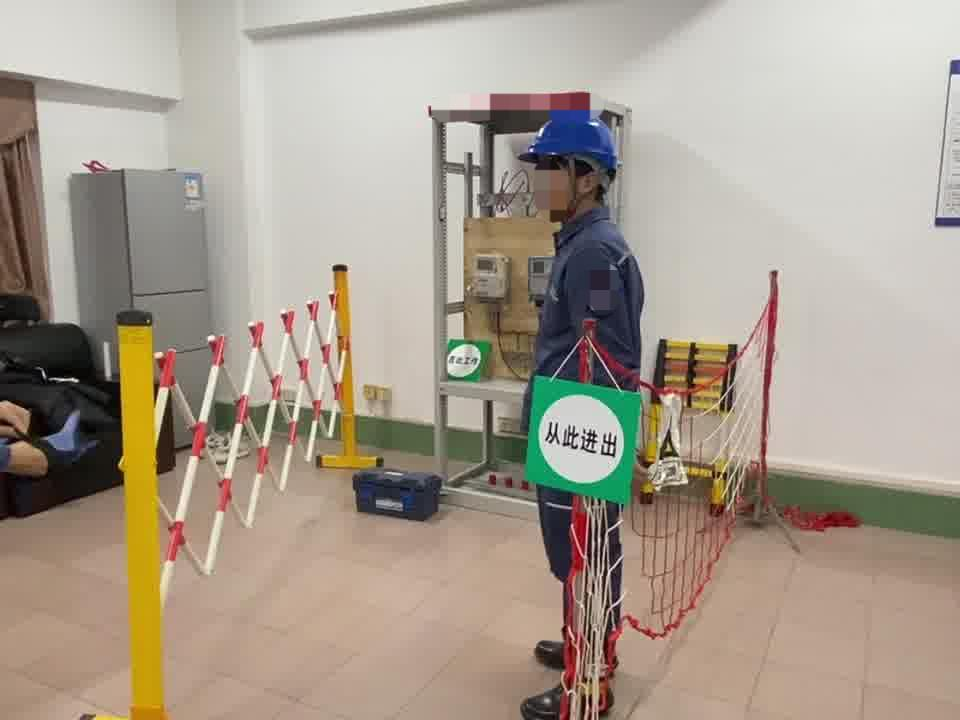halt: (521, 114, 624, 224)
inear: (565, 159, 608, 211)
